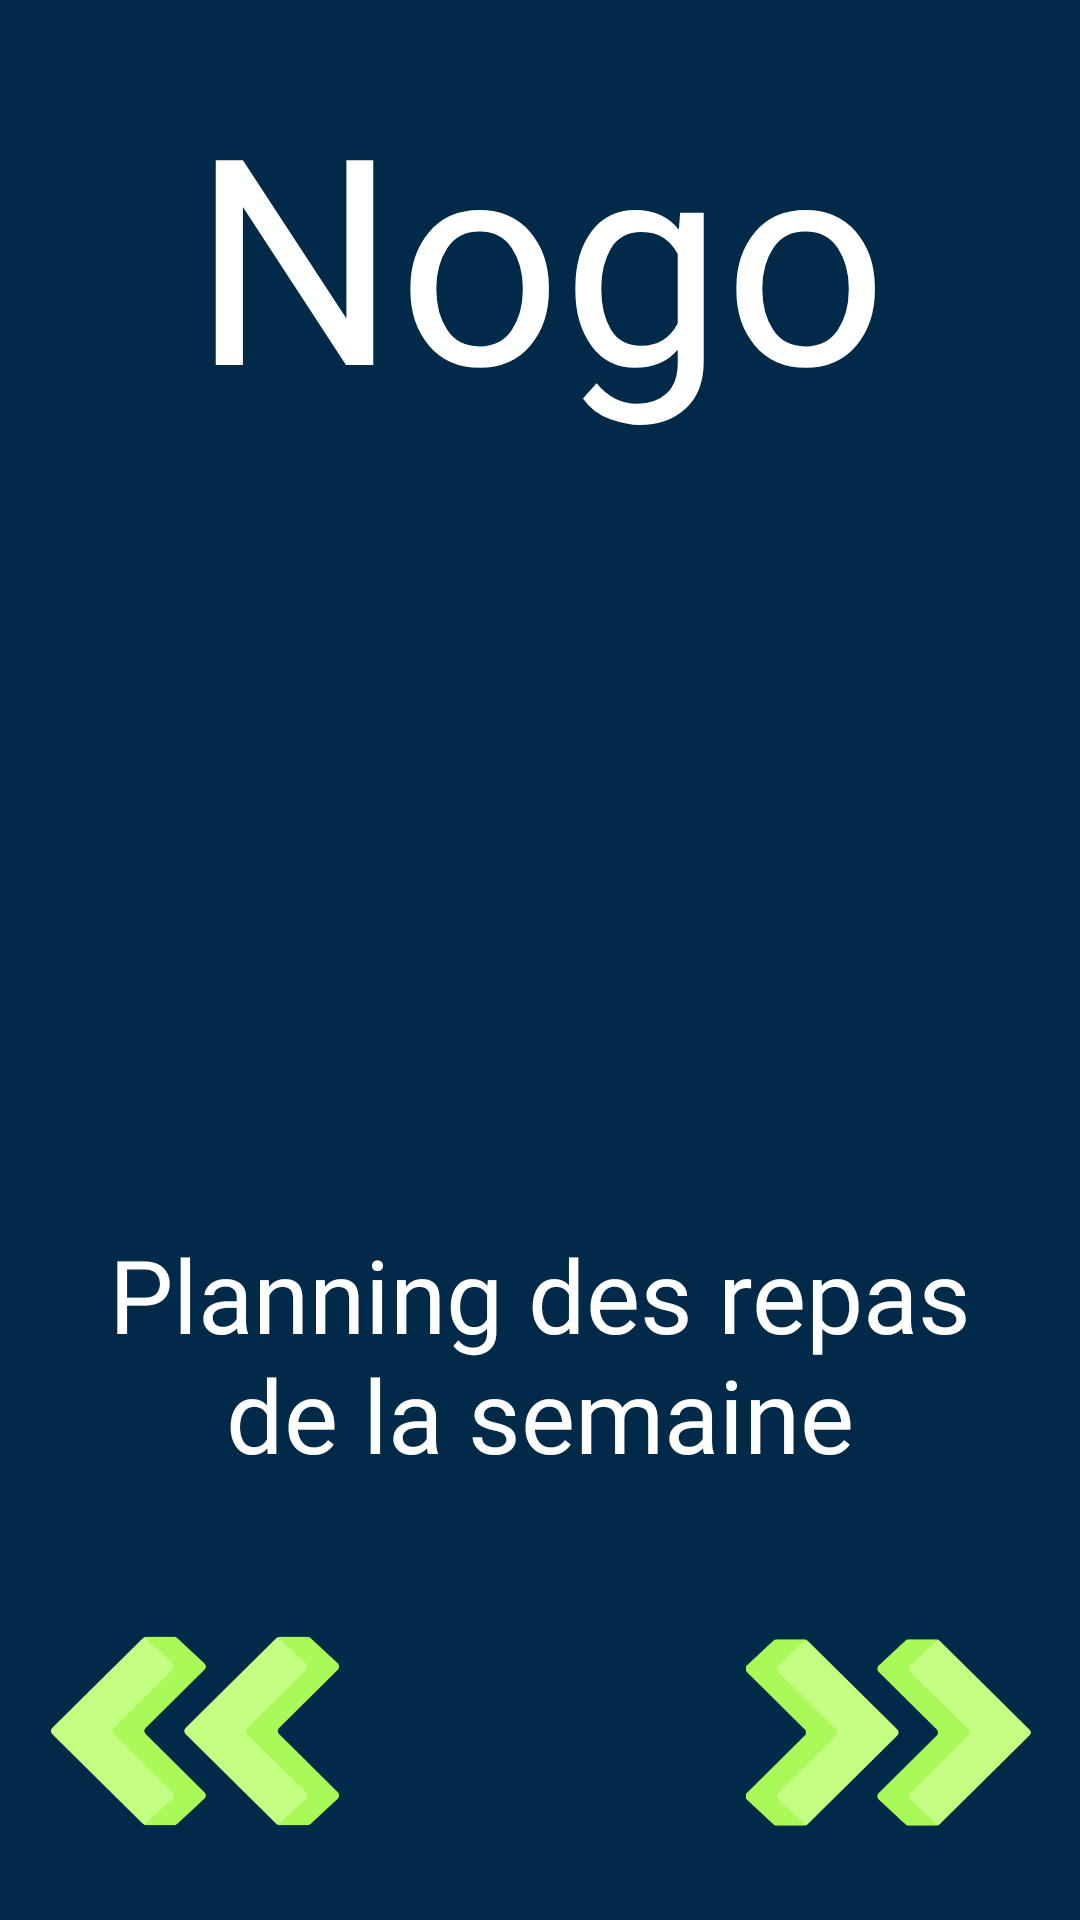

Screen size 1080×1920. Icon name, then its box in pixels as Rect(x1, y1, x2, y2):
fleche droite: Rect(746, 1639, 1031, 1826)
fleche gauche: Rect(51, 1636, 339, 1826)
